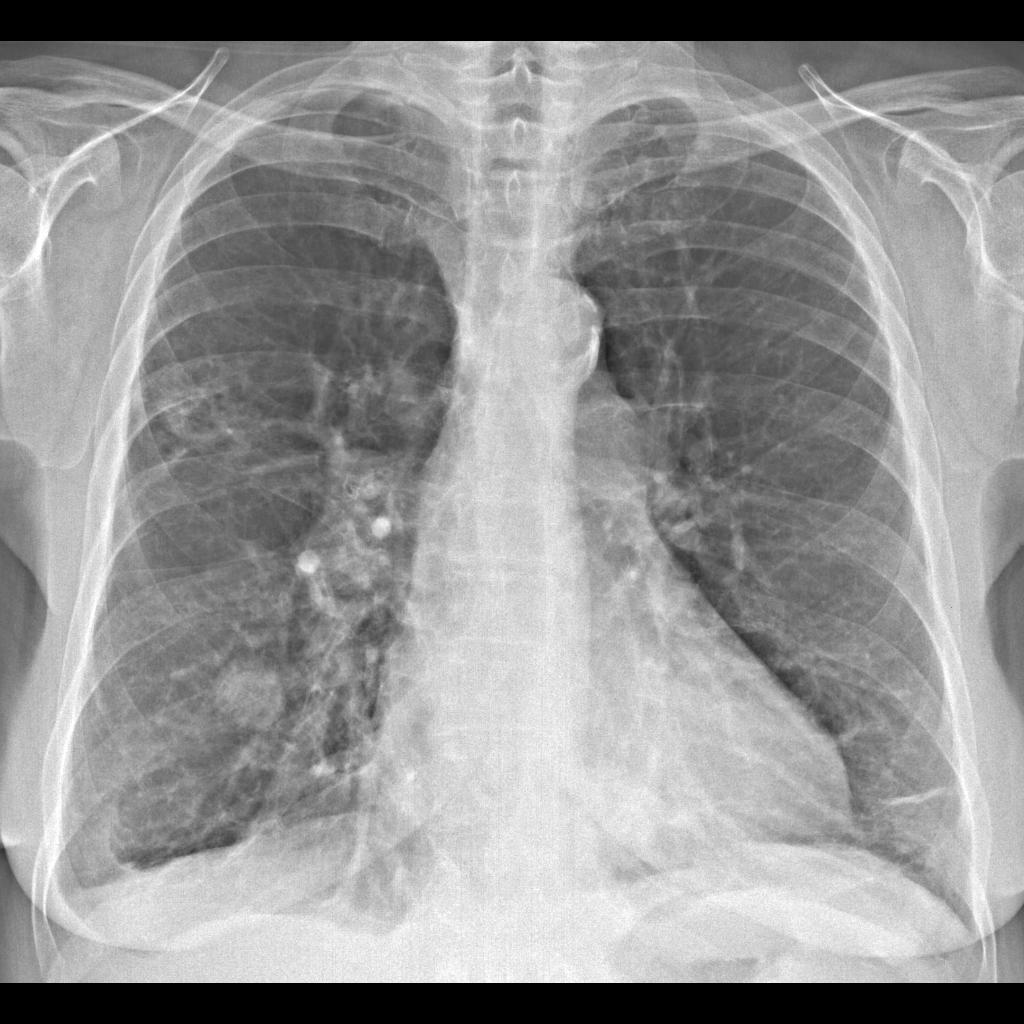Nodule: (573, 748, 670, 847), (208, 648, 289, 744), (152, 375, 236, 456)
